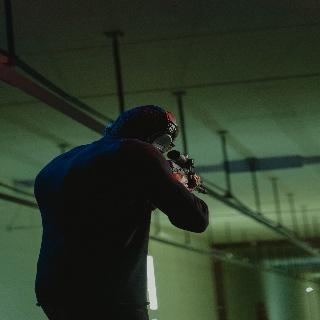rifle: (160, 149, 209, 196)
